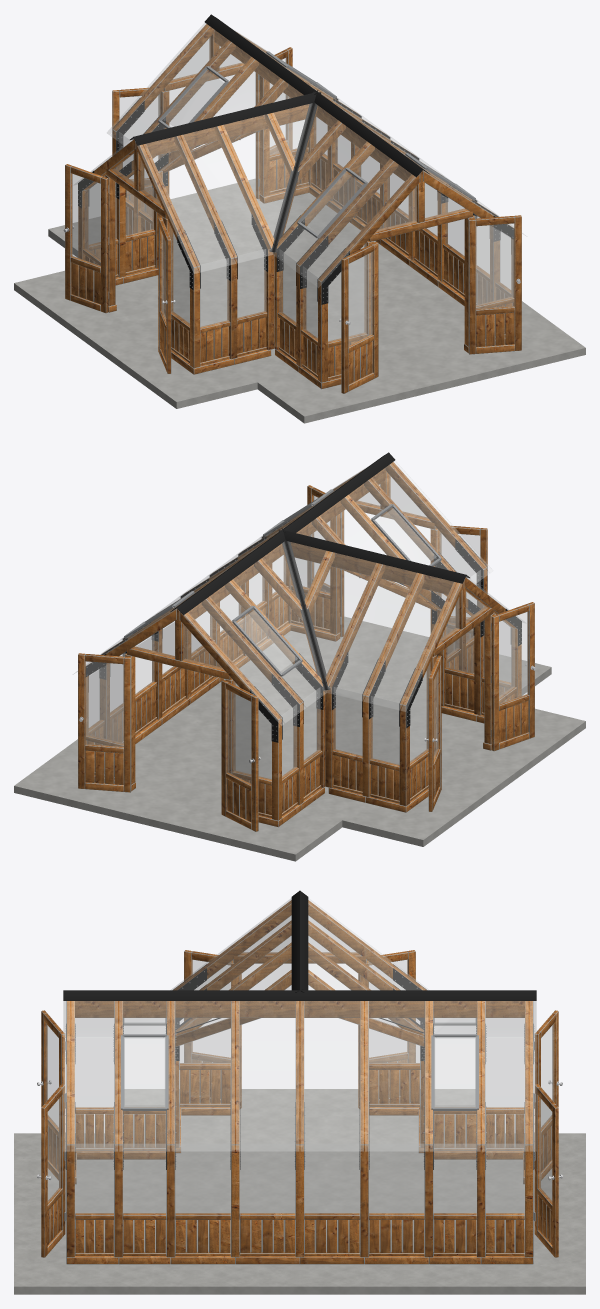
The model's file is nordwood-tshape.glb.
The picture shows the model from 3 angles, top to bottom: view 1: azimuth 30°, elevation 25°; view 2: azimuth 150°, elevation 25°; view 3: azimuth 270°, elevation 25°; orthographic projection. The views are drawn at different scales.
Parts seen in each view (by area): view 1: nordwood-tshape; view 2: nordwood-tshape; view 3: nordwood-tshape.
Boxes of the visible parts, box(x1,y1,x2,y2) form: nordwood-tshape: box(14, 14, 585, 423); nordwood-tshape: box(14, 452, 585, 861); nordwood-tshape: box(14, 890, 585, 1294).
Size of the model in its own units: 5.43 by 2.91 by 6.64.
Materials: 9 (4 with a texture image).
